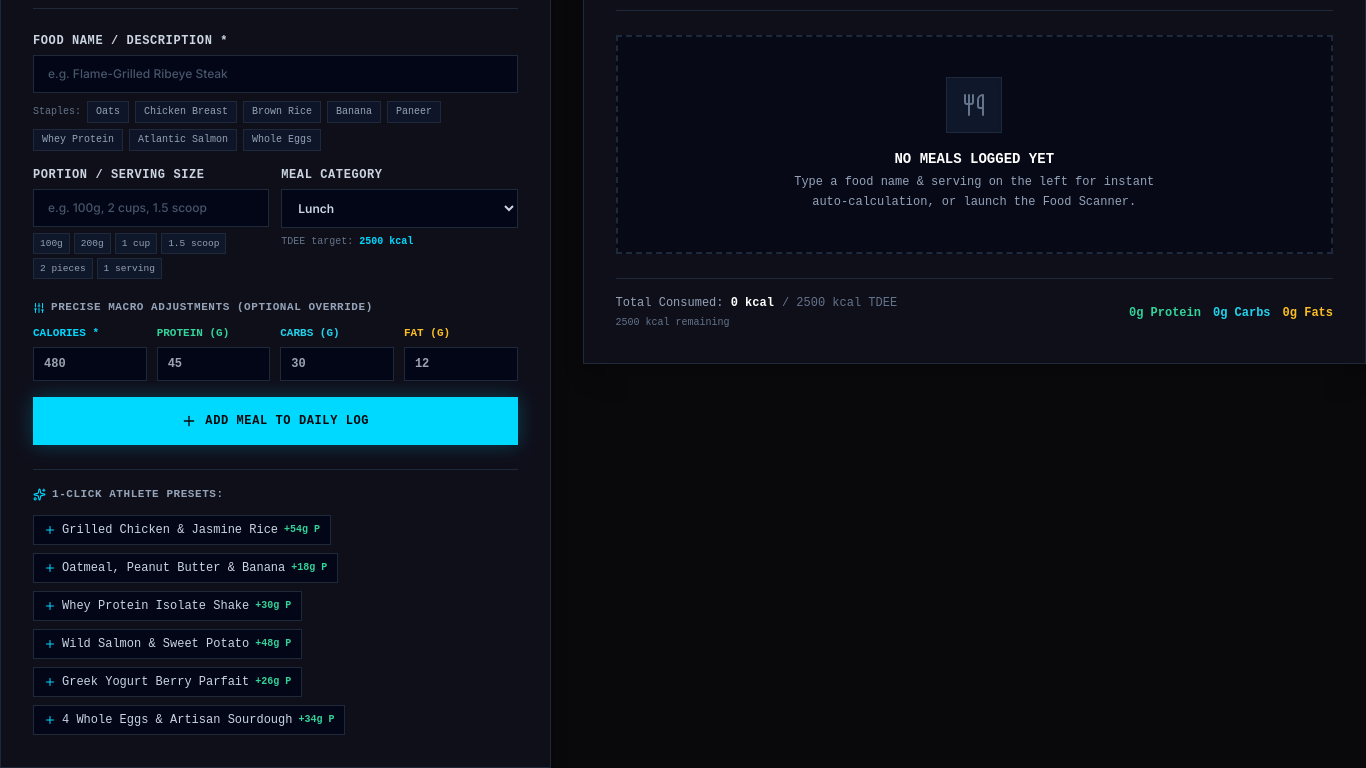
it: MealLogger Component › adds preset meal on 1-click preset button press
(page scrolled)
Step 1. Click the text "Whey Protein Isolate Shake" → (156, 606), box [62,598,249,614]
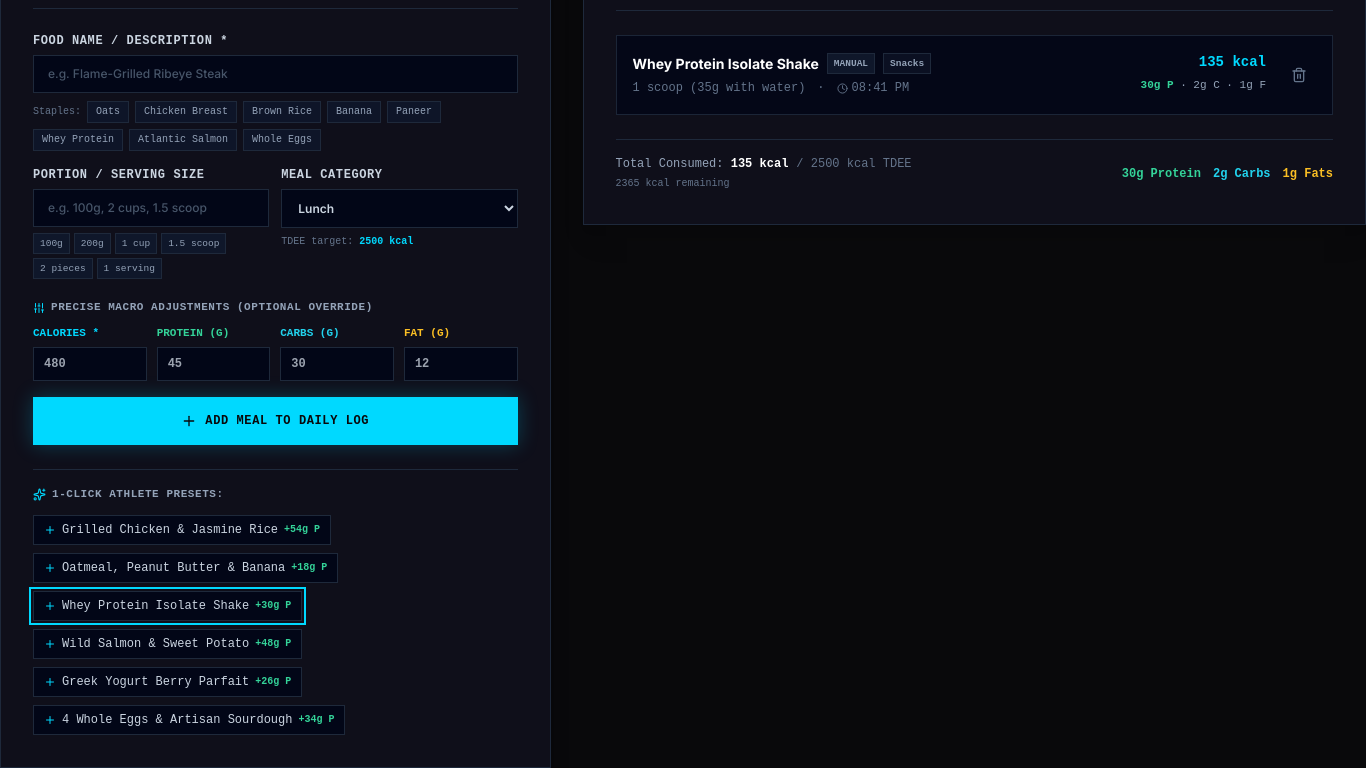
expect the text "+30g P" is shown: met, box [255,598,291,614]
expect the text "Whey Protein Isolate Shake" is shown 2 times: met, box [62,598,249,614]; [632,54,819,74]
expect the 1st text "135 kcal" is shown: met, box [1199,54,1266,70]
